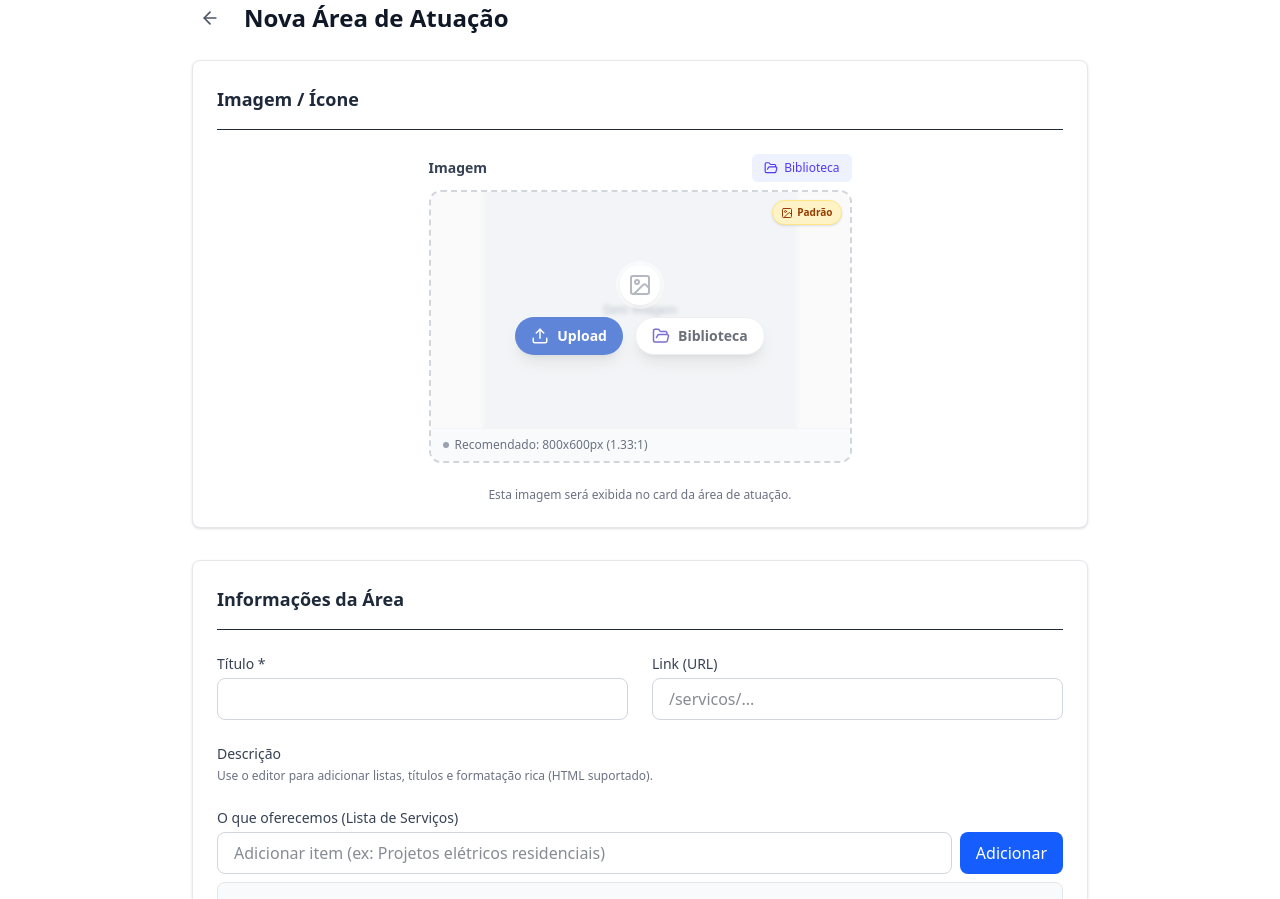
Scenario: PracticeAreas Form › adiciona e remove item de "o que oferecemos"
Type "Projetos de energia solar" into the field with placeholder "Adicionar item (ex: Projetos elétricos residenciais)" at [584, 853], box [217,832,952,874]
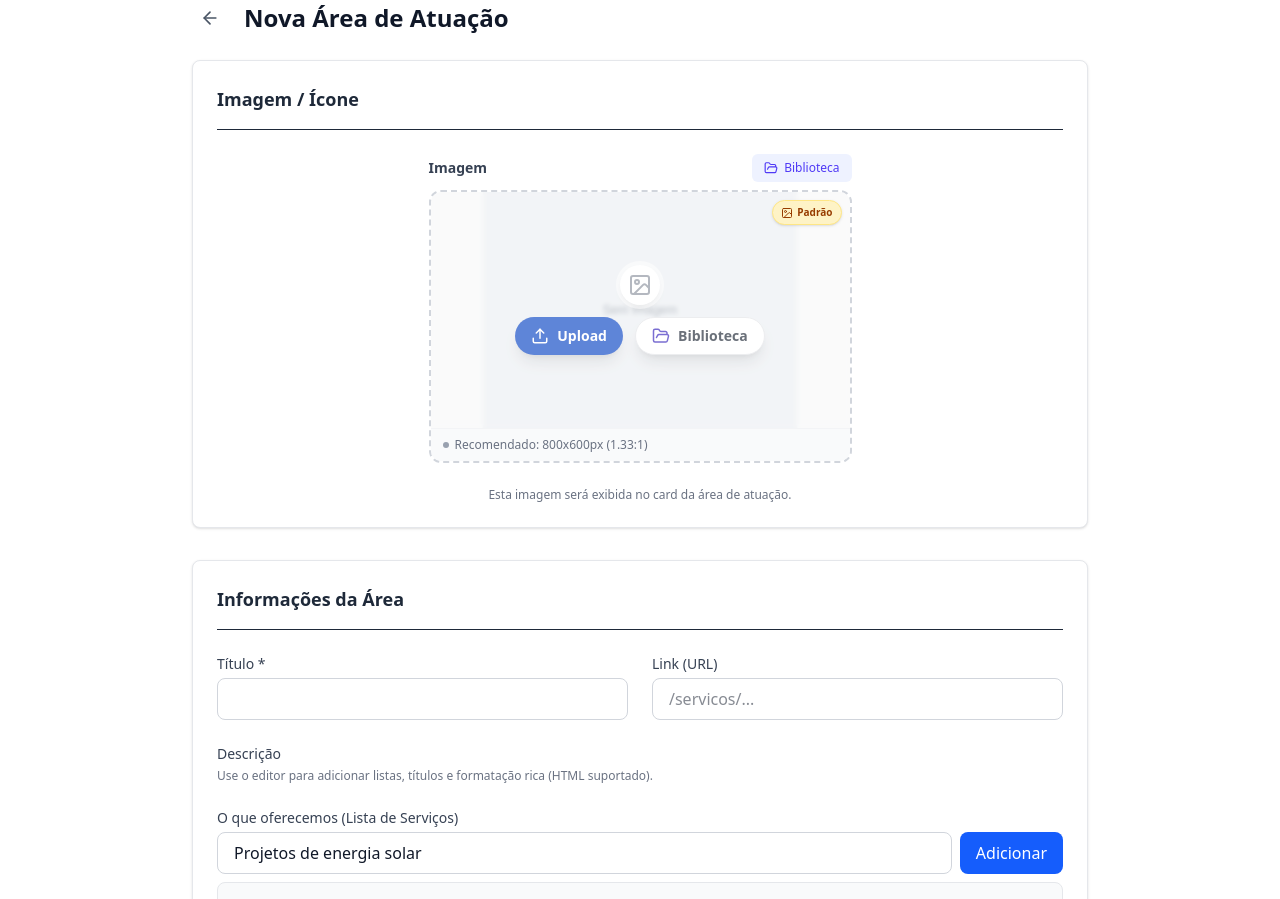
Click the button "Adicionar" at [1011, 853], box [960,832,1063,874]
(page scrolled)
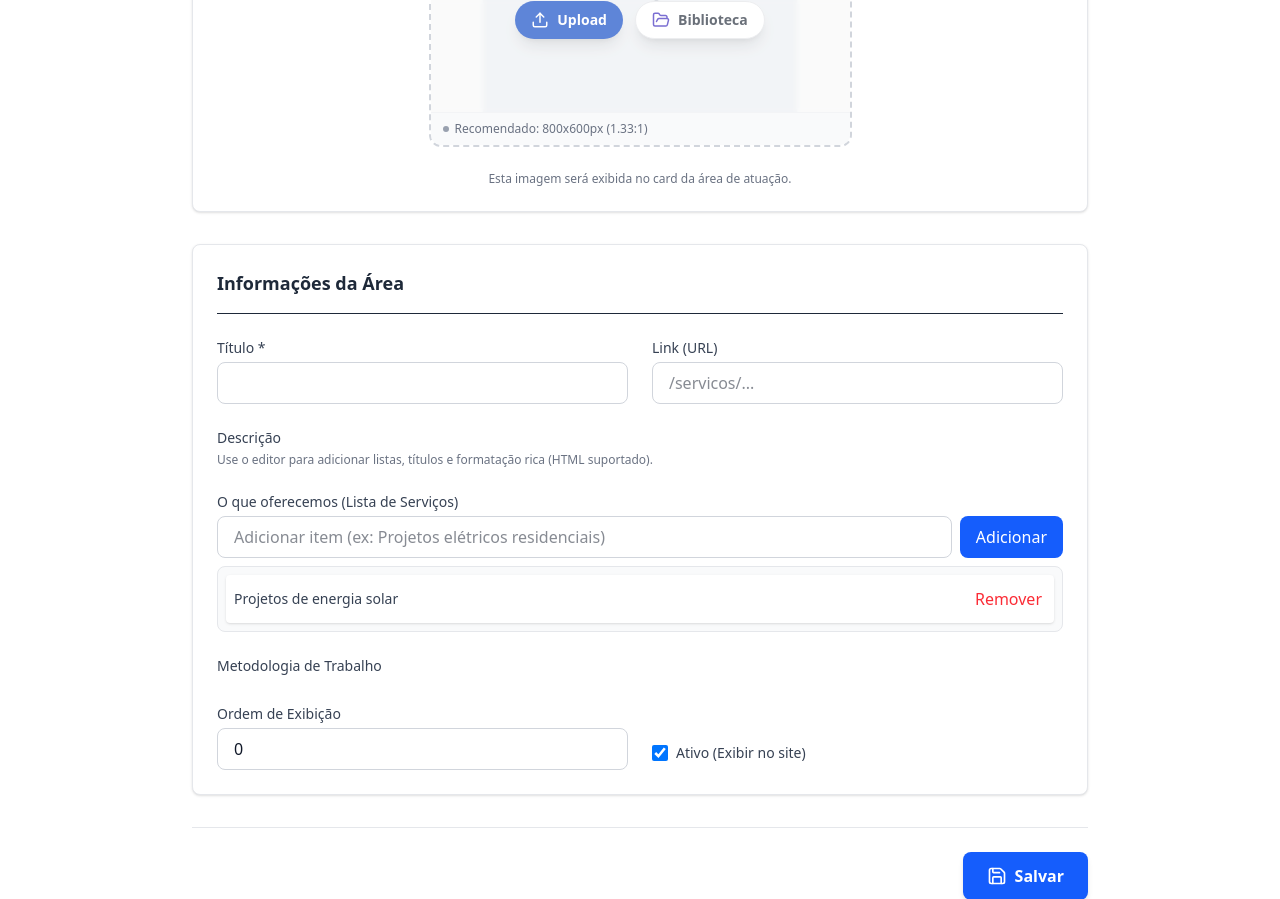
Now the text "Projetos de energia solar" is shown, box [234,589,398,608]
Click the button "Remover" at [1008, 599], box [971,583,1046,615]
(page scrolled)
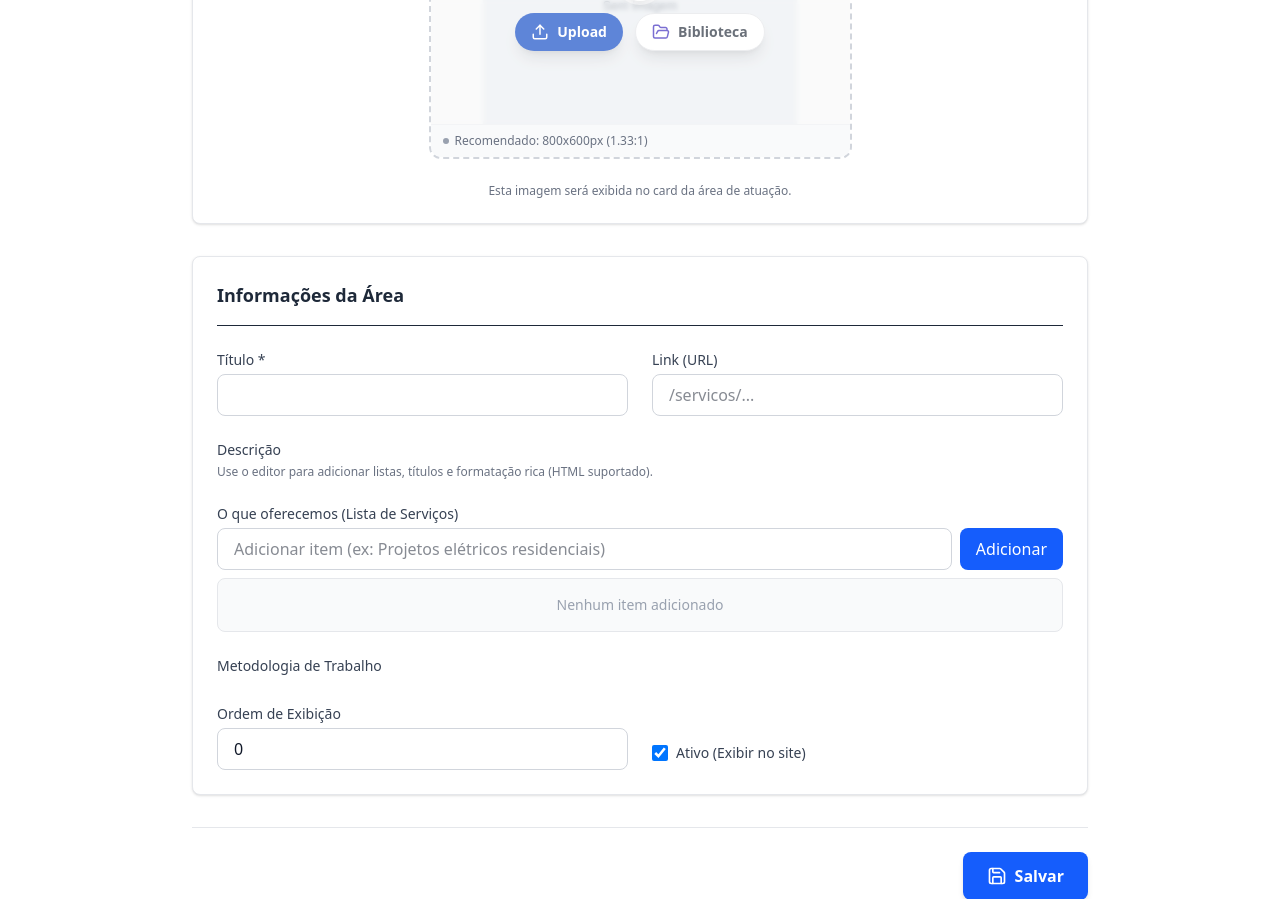
Now the text "Projetos de energia solar" is gone
